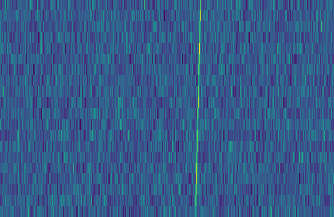signal: (191, 0, 205, 217)
